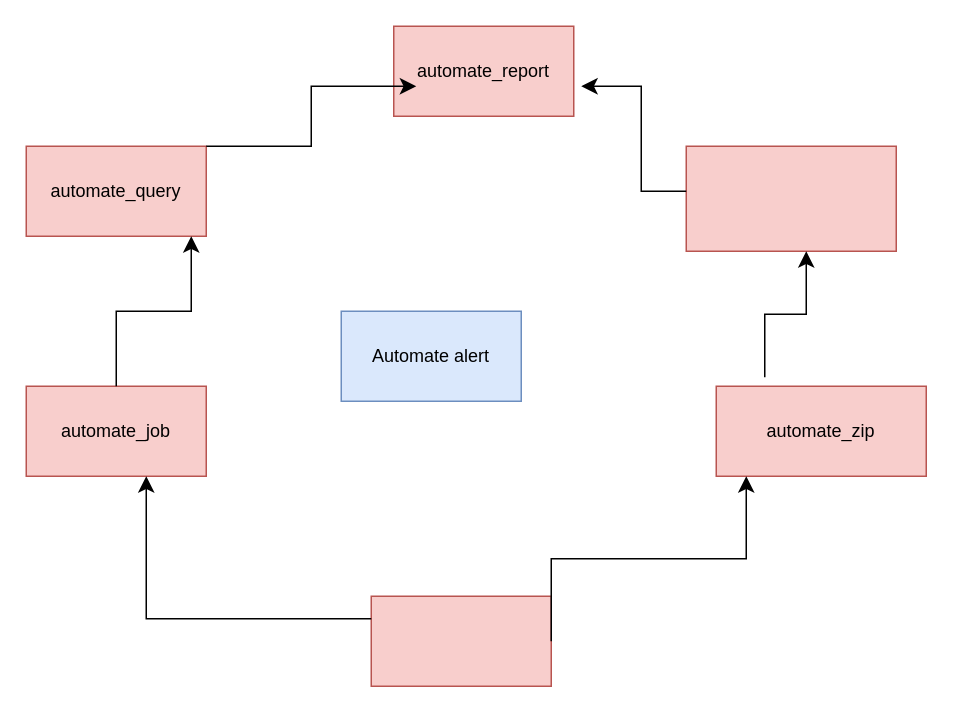
This 953x713 diagram has some shape labels left out. Here are the shapes that lost their labels. From the top down, the centre of each, then its label:
At (x=790, y=198): "automate_export_type".
At (x=460, y=640): "automate_process".
